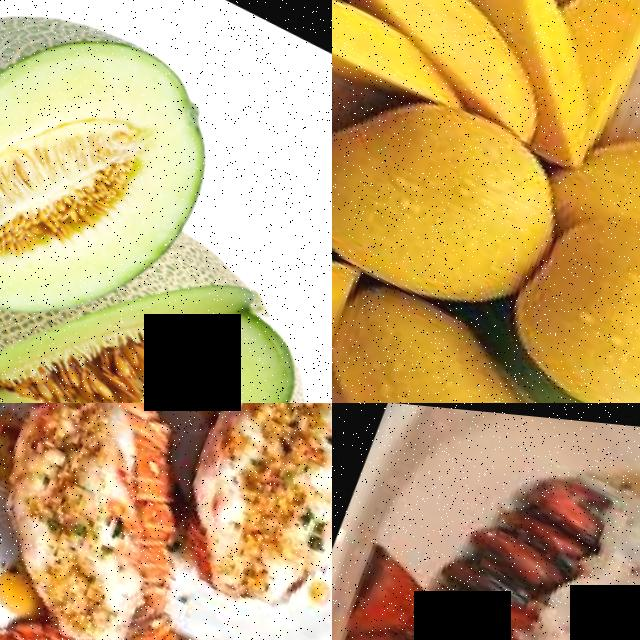lobster tails: (332, 403, 640, 640), (0, 403, 227, 640), (120, 403, 332, 638)
mango: (332, 54, 577, 341), (489, 169, 640, 403), (332, 293, 581, 403)
melon: (0, 0, 248, 327), (44, 210, 332, 403), (0, 253, 300, 403)
